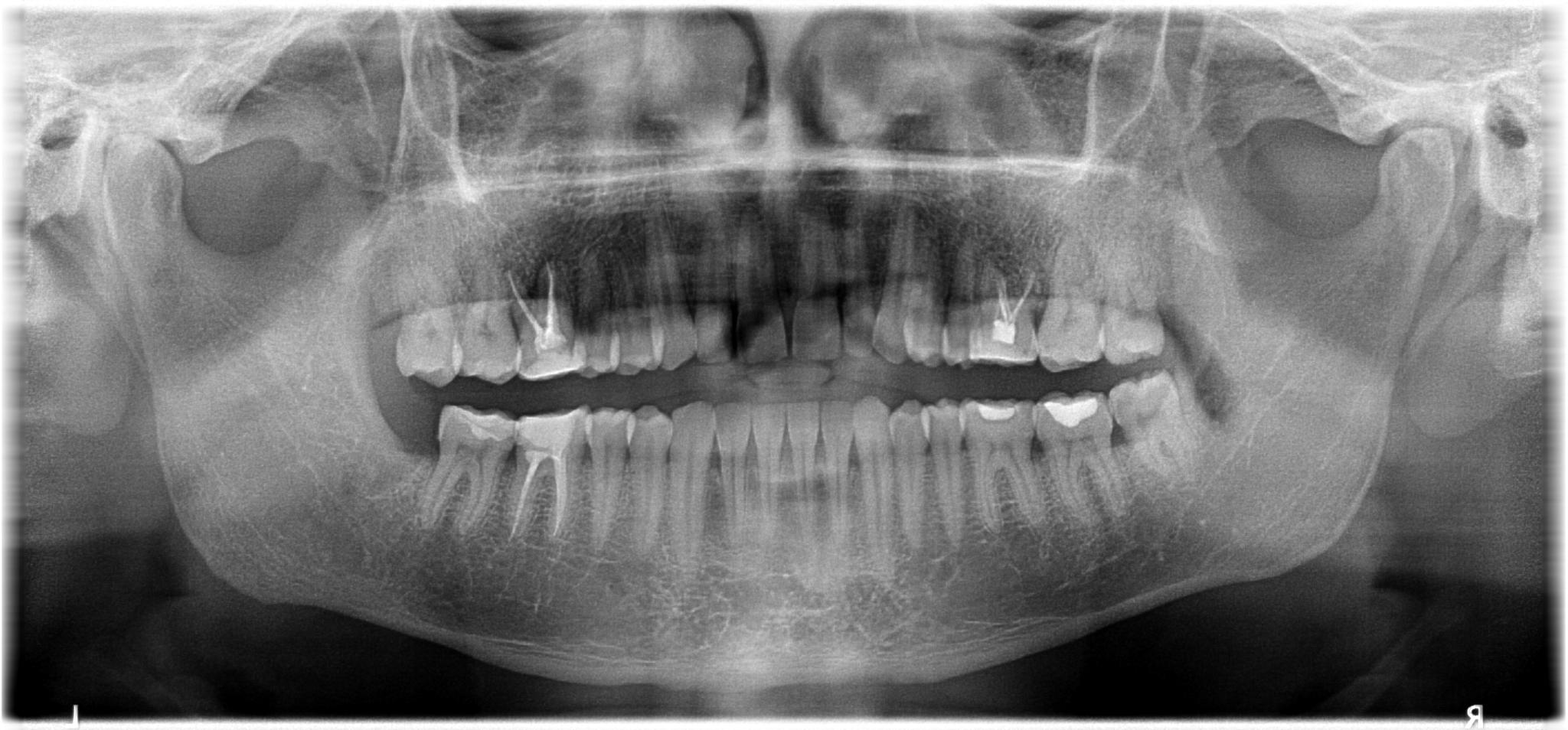Premolars: (534, 195, 1506, 591), (595, 180, 1568, 550), (492, 59, 1469, 363), (537, 92, 1568, 358), (300, 198, 876, 602), (263, 203, 742, 606), (291, 185, 846, 412)
